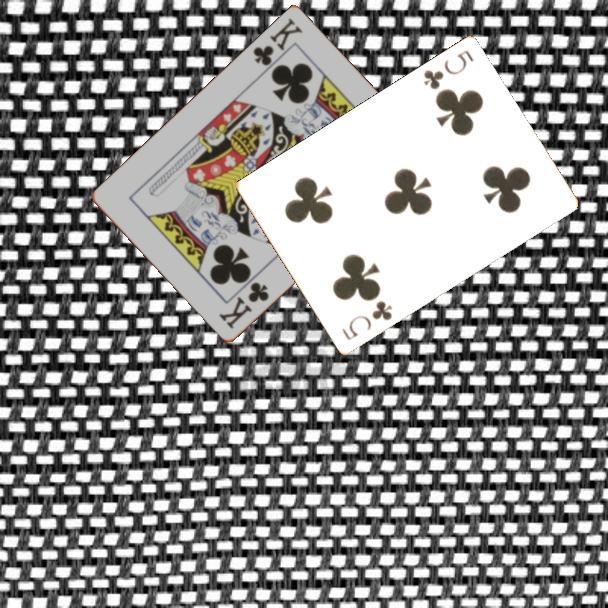c05: (338, 297, 395, 344), (420, 46, 476, 93)
c13: (249, 14, 306, 69), (215, 279, 272, 332)
